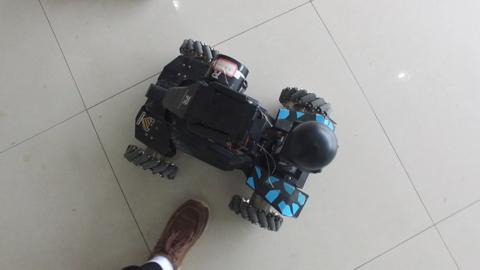chariot: (122, 26, 329, 219)
